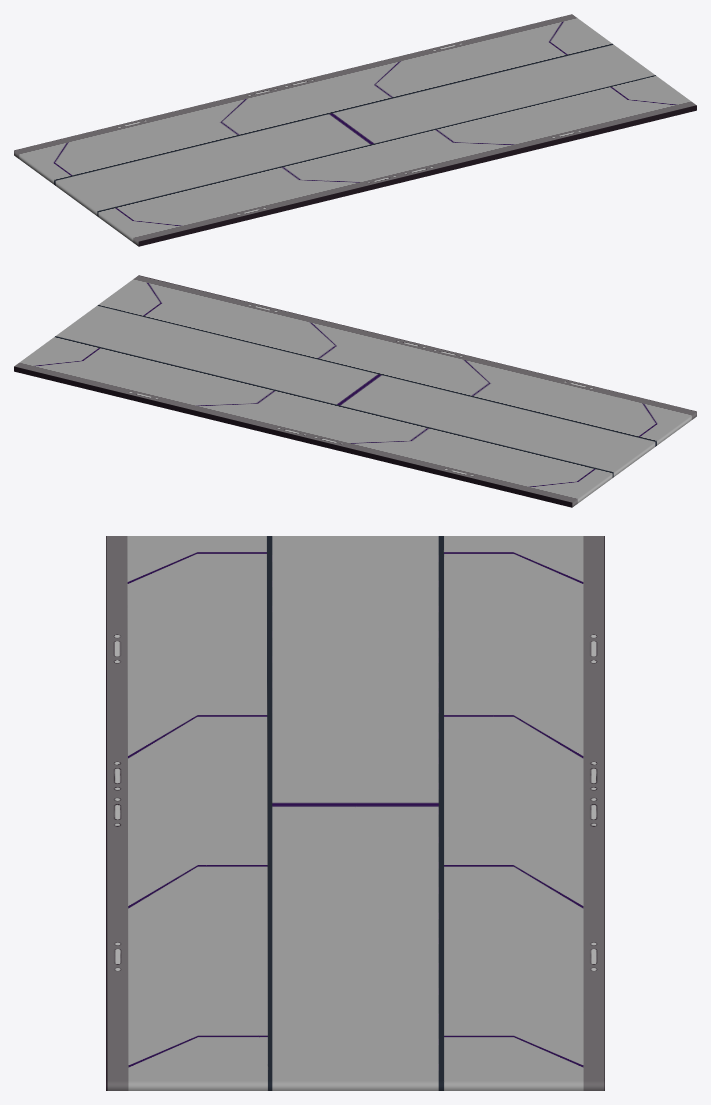
Rendered from KF_SM_LSide001.fbx.
3 renders of one model, top to bottom at view 1: azimuth 30°, elevation 25°; view 2: azimuth 150°, elevation 25°; view 3: azimuth 270°, elevation 25°, orthographic. The views are drawn at different scales.
Parts seen in each view (by area): view 1: KF_SM_LSideW001; view 2: KF_SM_LSideW001; view 3: KF_SM_LSideW001.
Part boxes in pixels (x1=…): KF_SM_LSideW001: x1=14, y1=14, x2=696, y2=246; KF_SM_LSideW001: x1=14, y1=275, x2=696, y2=507; KF_SM_LSideW001: x1=106, y1=536, x2=604, y2=1090.
Bounding box in the file's own units: 5788 × 50 × 2240.
Materials: 1 (1 with a texture image).
